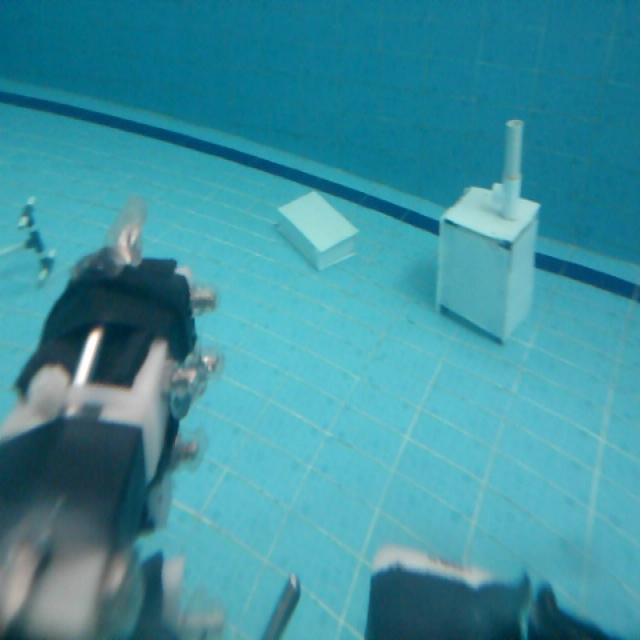Cube: (430, 175, 548, 349)
Cuboid: (275, 185, 360, 271)
